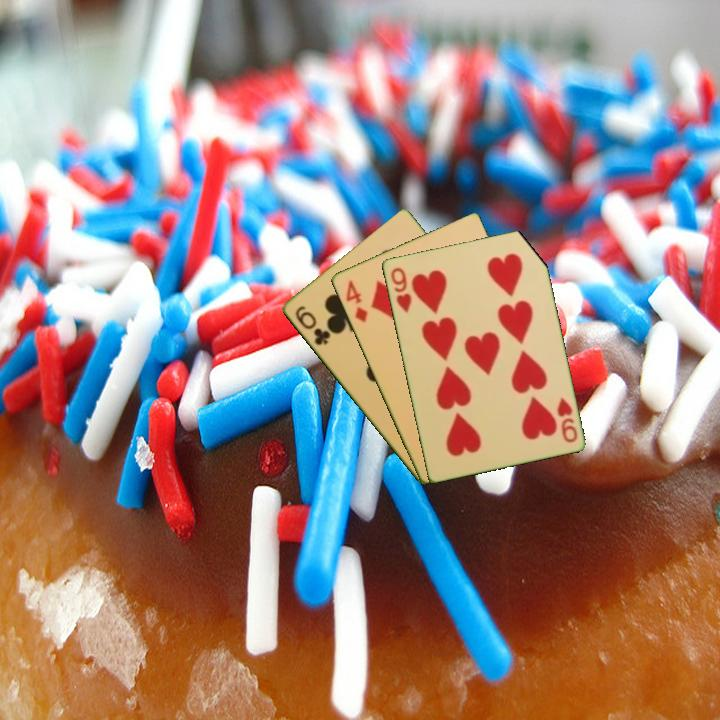4d: (342, 276, 370, 325)
6c: (291, 302, 333, 348)
9h: (387, 264, 414, 316), (553, 394, 580, 445)
